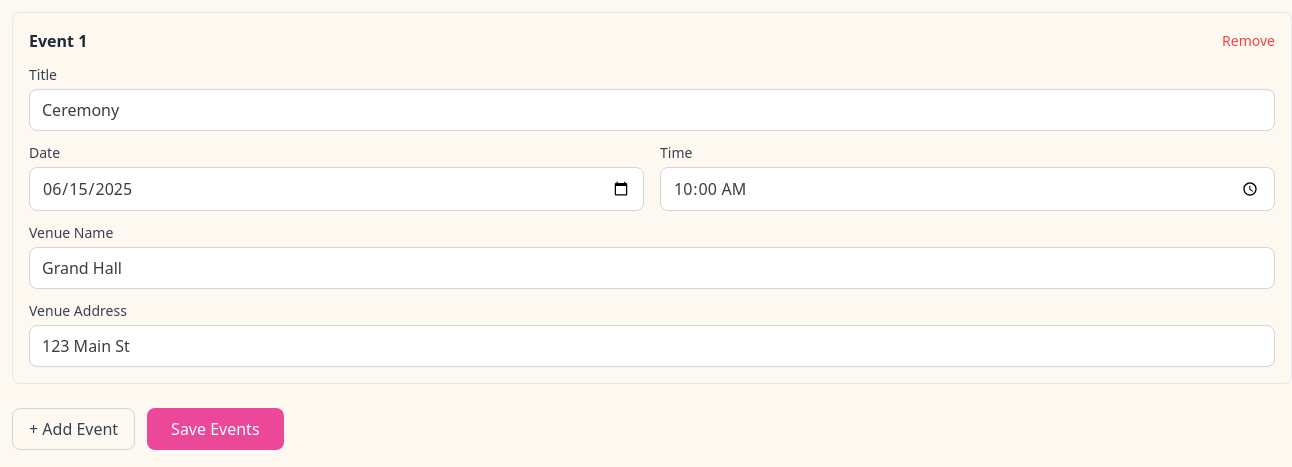
Test: EventEditor › removes an event when clicking remove
Expected: the text "Event 1" is shown, [29,29,87,53]
Click the button with aria-label "Remove event 1". click: (1249,41)
box: [1222,31,1275,51]
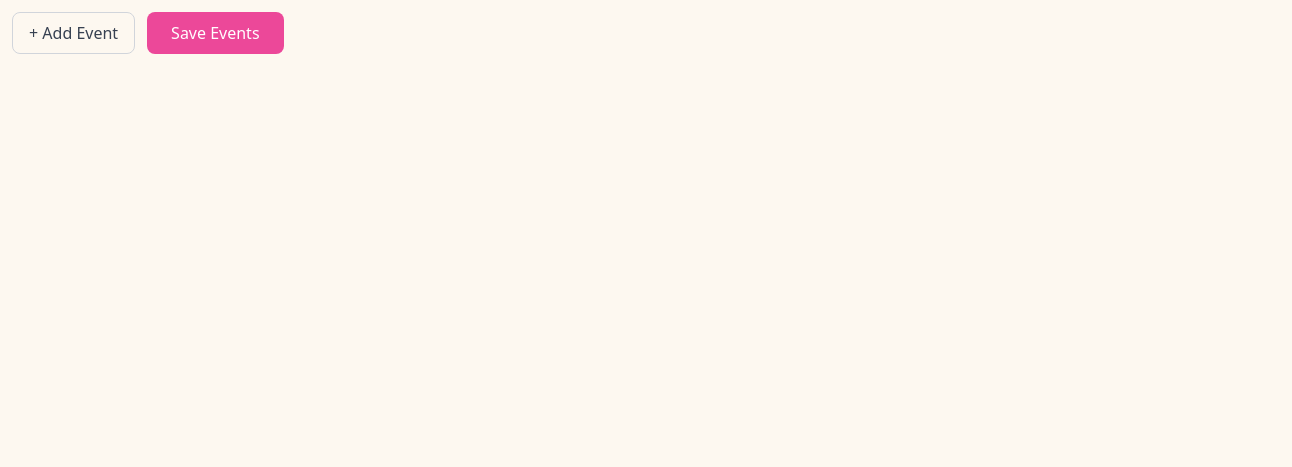
Now the text "Event 1" is gone
